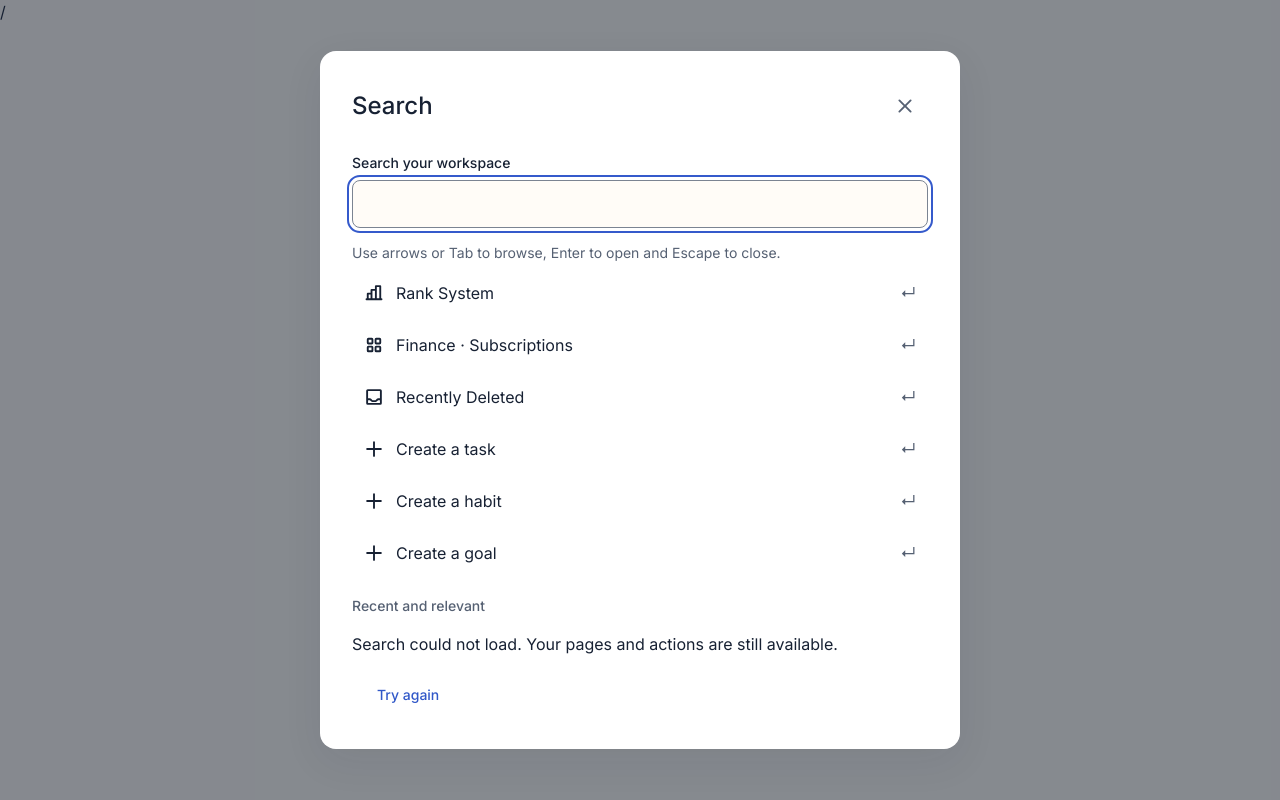
Scenario: distinguishes a search failure from an empty result and permits retry
This screenshot has width=1280, height=800.
(page scrolled)
Expected: the text "Search could not load. Your pages and actions are still available." is shown, [352,634,838,654]
Click the button "Try again" at (408, 694), box [352,672,464,717]
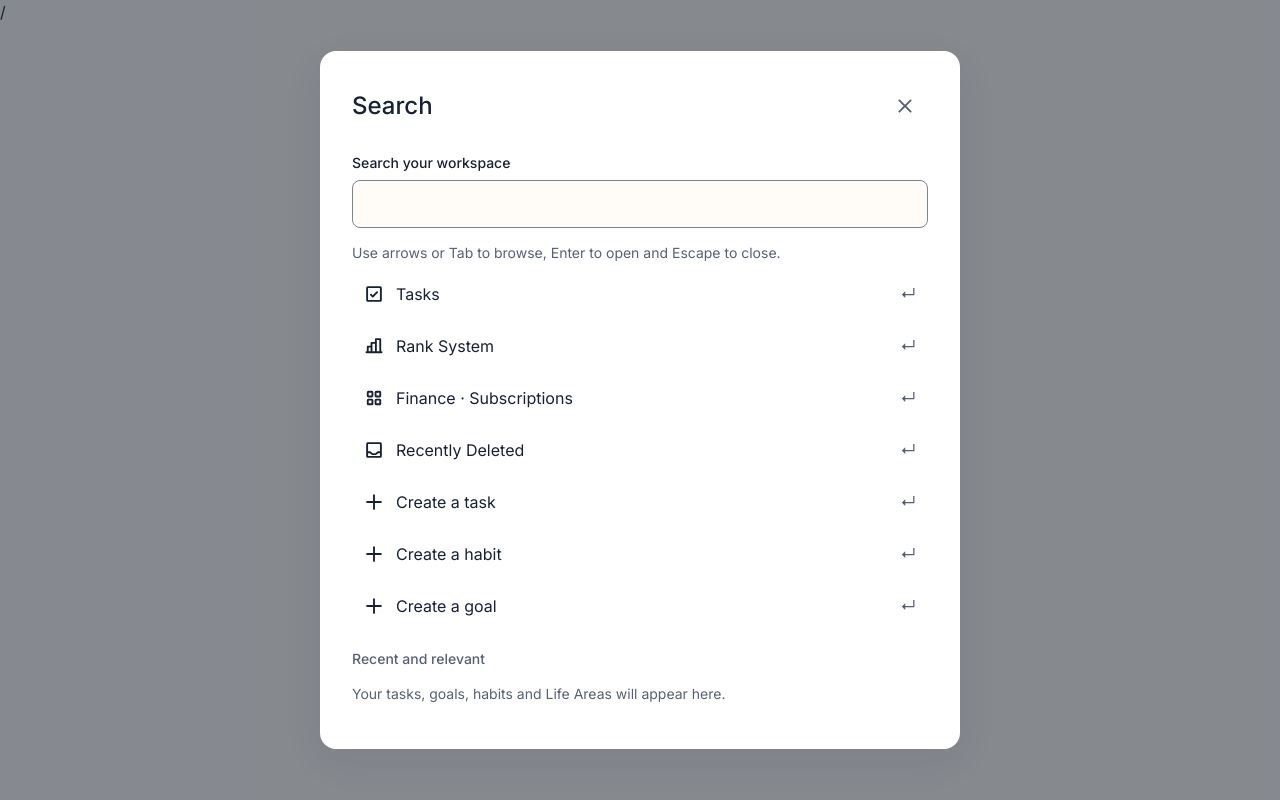
Result: the text "Search could not load. Your pages and actions are still available." is gone
